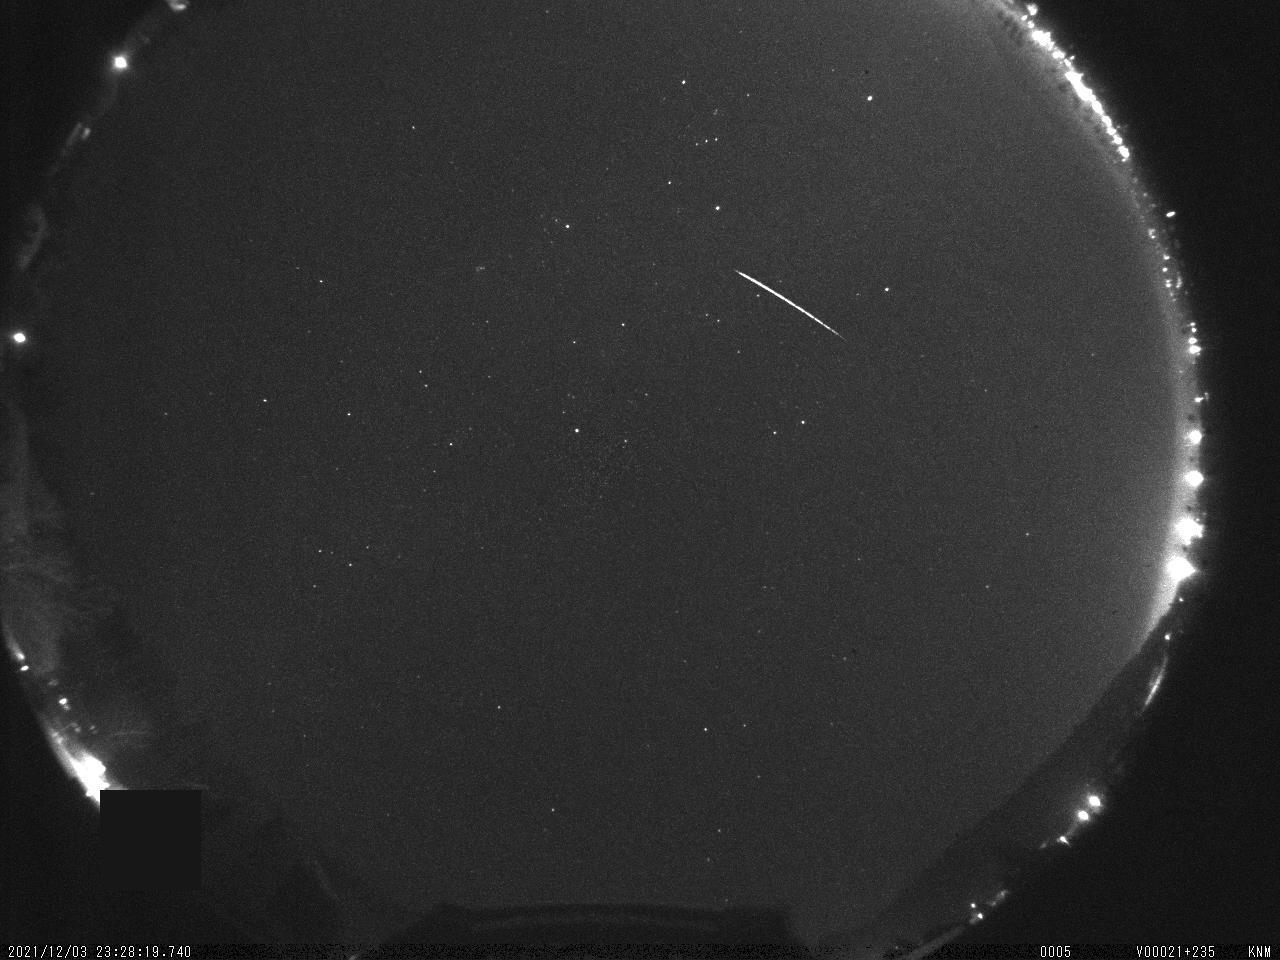Meteor: (733, 262, 846, 339)
